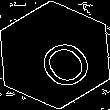O_NW: (19, 22, 91, 88)
